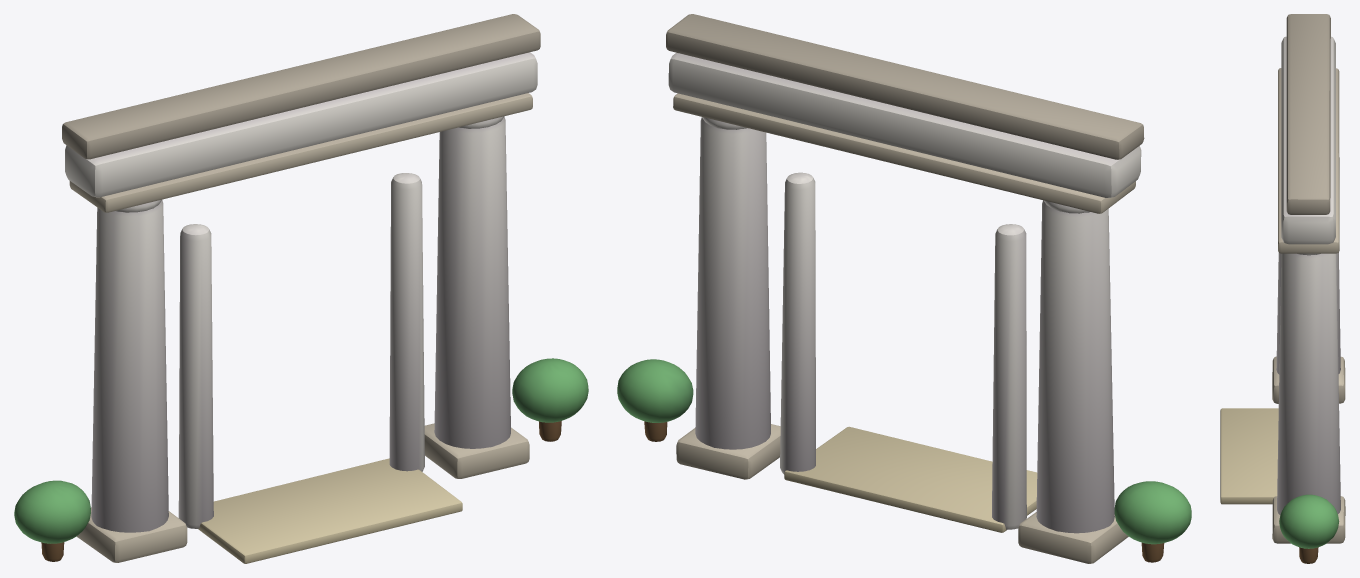
3 renders of one model, left to right at view 1: azimuth 30°, elevation 25°; view 2: azimuth 150°, elevation 25°; view 3: azimuth 270°, elevation 25°, orthographic. The views are drawn at different scales.
Parts seen in each view (by area): view 1: gate_509c7678; view 2: gate_509c7678; view 3: gate_509c7678.
Part boxes in pixels (left/top/right/bottom): gate_509c7678: left=14, top=14, right=588, bottom=563; gate_509c7678: left=617, top=14, right=1191, bottom=563; gate_509c7678: left=1220, top=14, right=1345, bottom=563.
Size of the model in its own units: 6.2 by 4.45 by 1.42.
